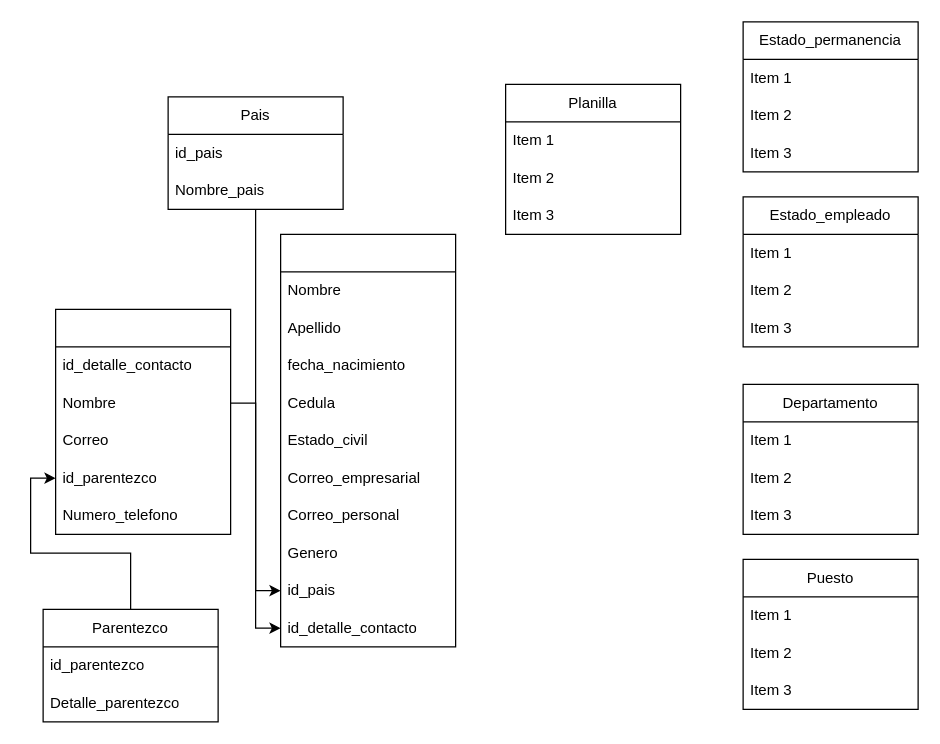
Some shapes in this 940 by 744 pixel diagram are drawn without their labels. Each missing label, with the box of its shape:
Contacto_emergencia: (54, 308, 231, 534)
Empleado: (279, 233, 456, 647)
